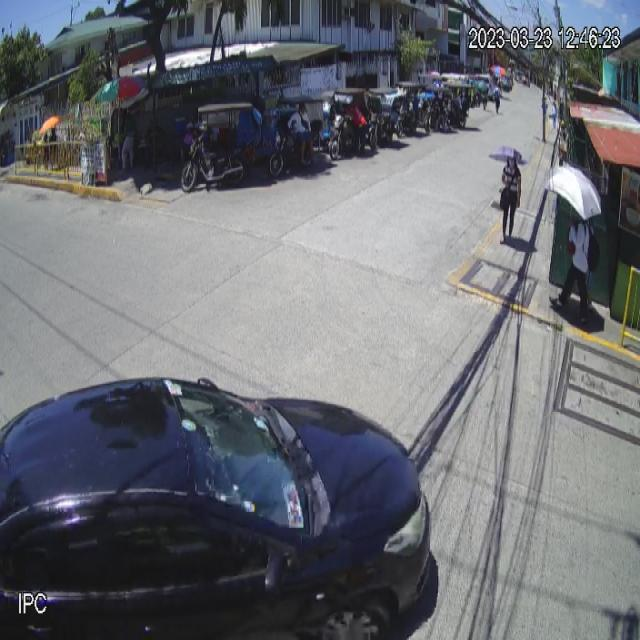Car: (0, 371, 440, 640)
